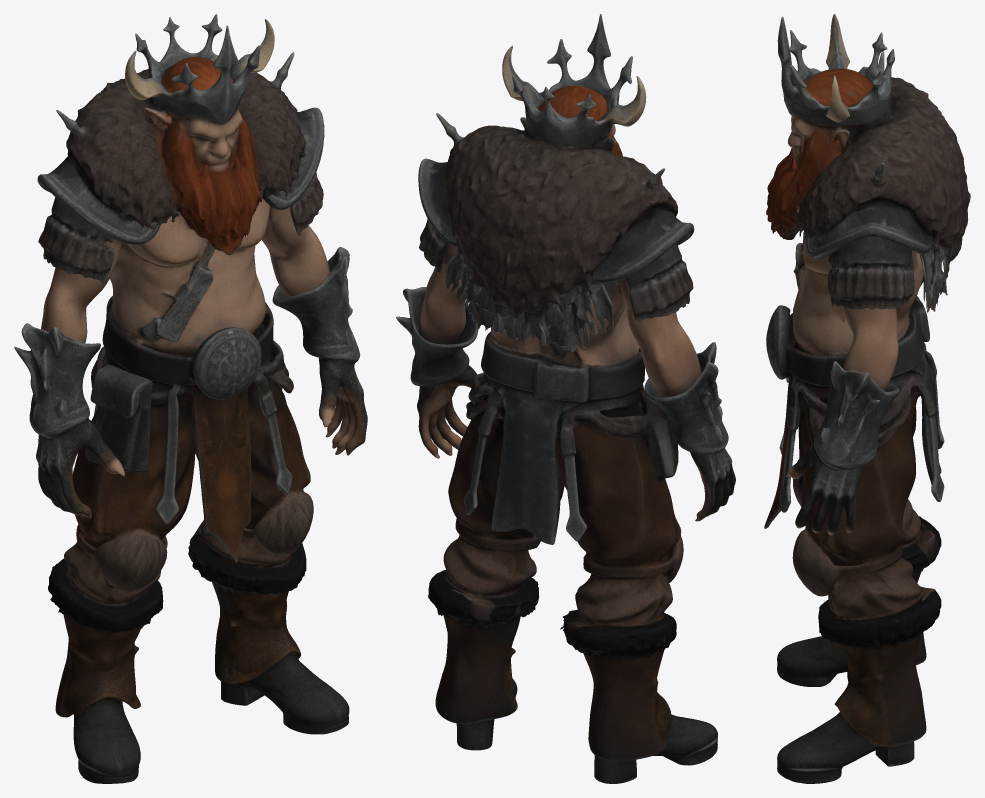
File: king-meshy6lite-textured.glb
3 renders of one model, left to right at view 1: azimuth 30°, elevation 25°; view 2: azimuth 150°, elevation 25°; view 3: azimuth 270°, elevation 25°, orthographic. The views are drawn at different scales.
Bounding box in the file's own units: 0.8873 × 1.9 × 0.5018.
Materials: 1 (1 with a texture image).
